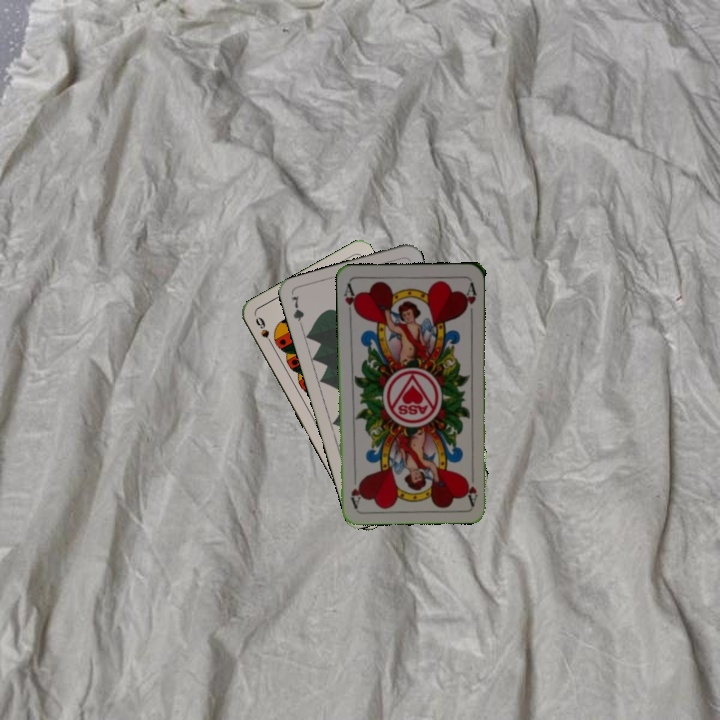G7: (287, 292, 307, 332)
HA: (340, 279, 360, 320), (463, 466, 480, 507)
S9: (251, 312, 276, 350)
